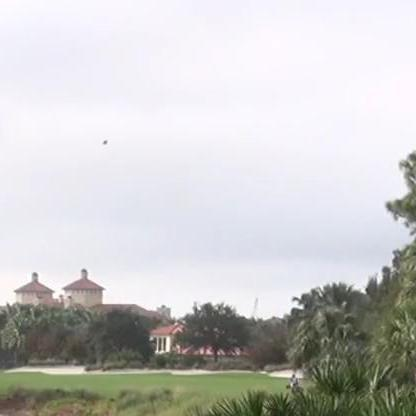golfball: (99, 136, 106, 143)
